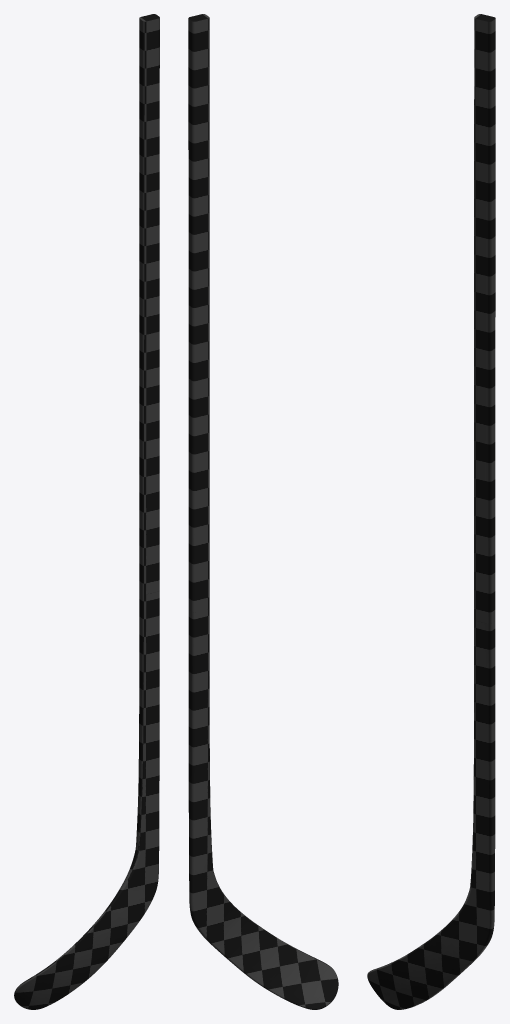
File: P90TM-LIE6-ST.glb
3 views of the same model, side by side, from view 1: azimuth 30°, elevation 25°; view 2: azimuth 210°, elevation 25°; view 3: azimuth 330°, elevation 25° (orthographic). The views are drawn at different scales.
Parts seen in each view (by area): view 1: geometry_0; view 2: geometry_0; view 3: geometry_0.
Boxes of the visible parts, x1,y1,x2,y2 form: geometry_0: (14,14,159,1009); geometry_0: (188,14,338,1009); geometry_0: (367,14,495,1009).
Size of the model in its own units: 232 by 1650 by 57.18.
Materials: 1 (1 with a texture image).
